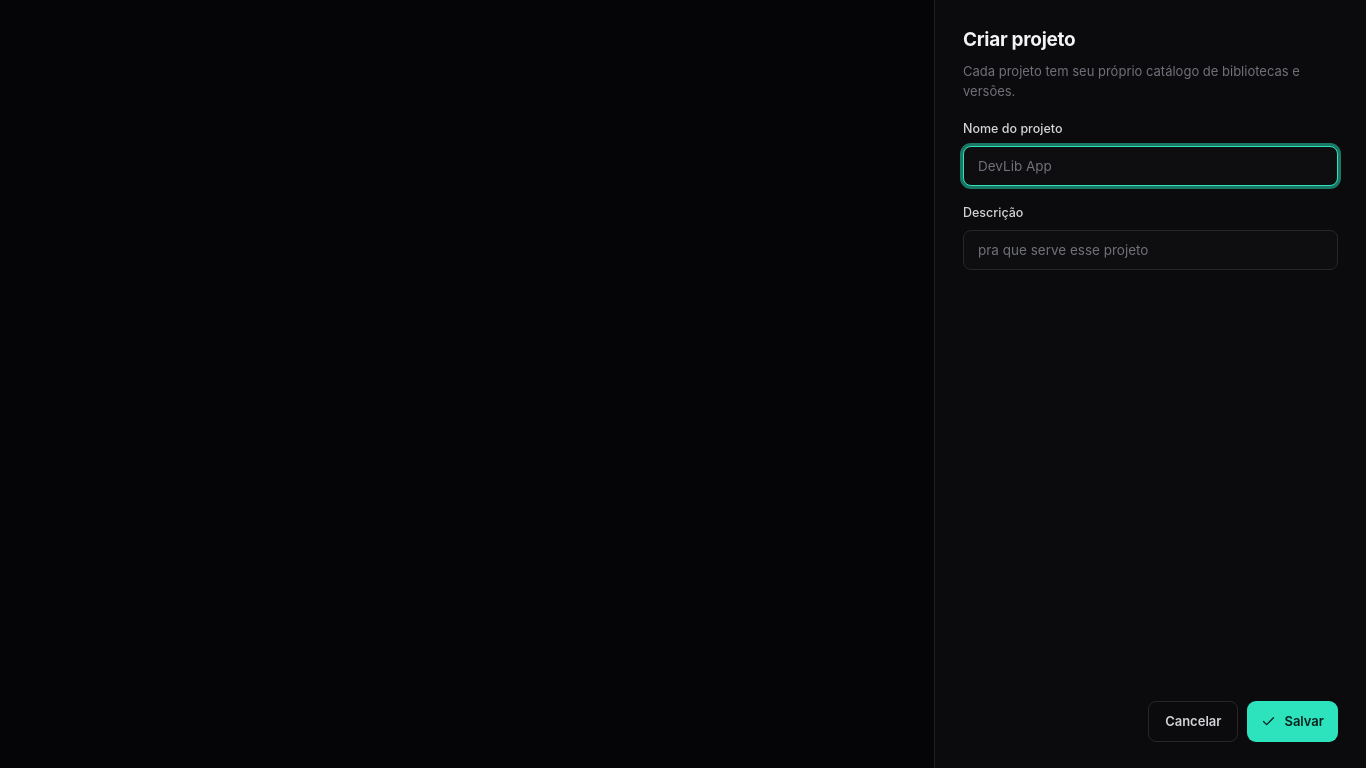
Test: CreateProjectDrawer › mostra a mensagem de erro da API quando a criação falha
The image size is (1366, 768).
Step 1. Type "DevLib" into the field labelled "Nome do projeto" → (1150, 166), box x1=963 y1=146 x2=1338 y2=186
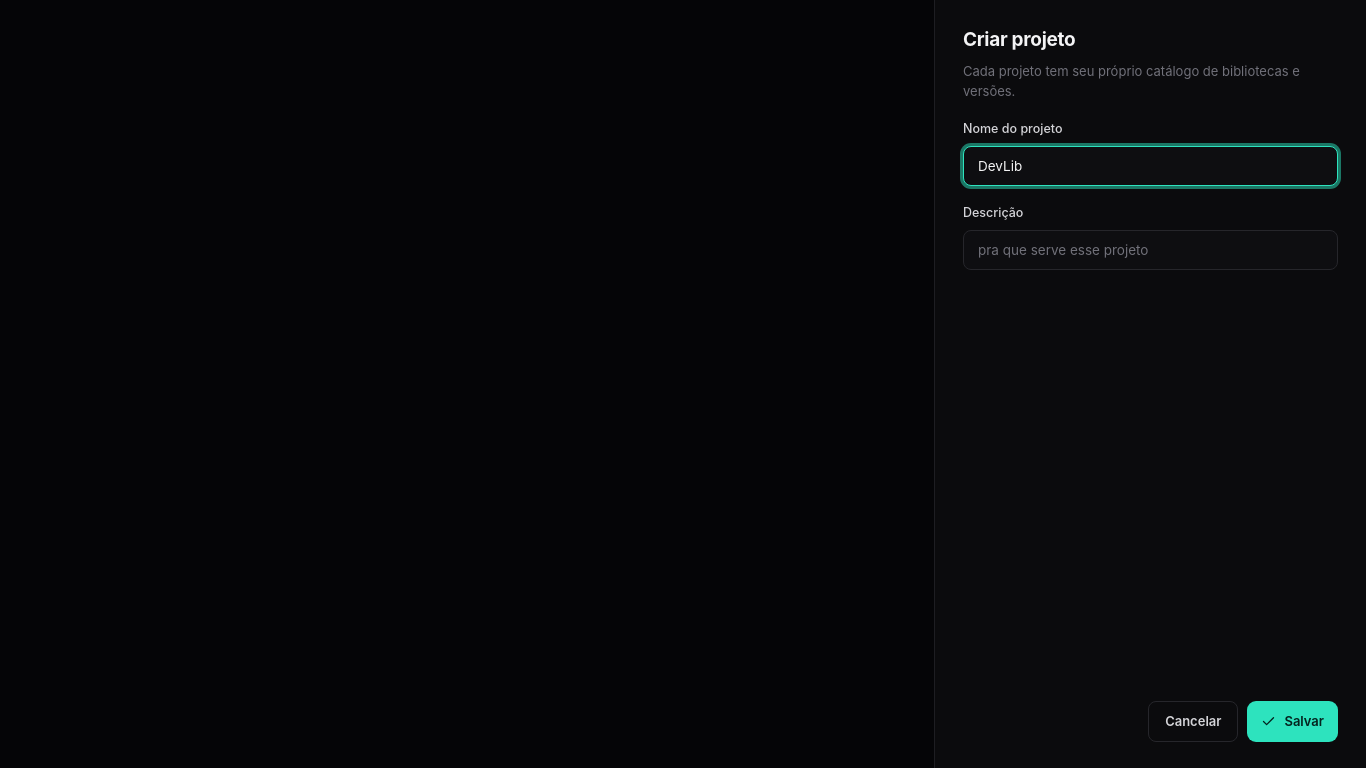
Step 2. Click the button "Salvar" → (1293, 721), box x1=1247 y1=700 x2=1338 y2=742
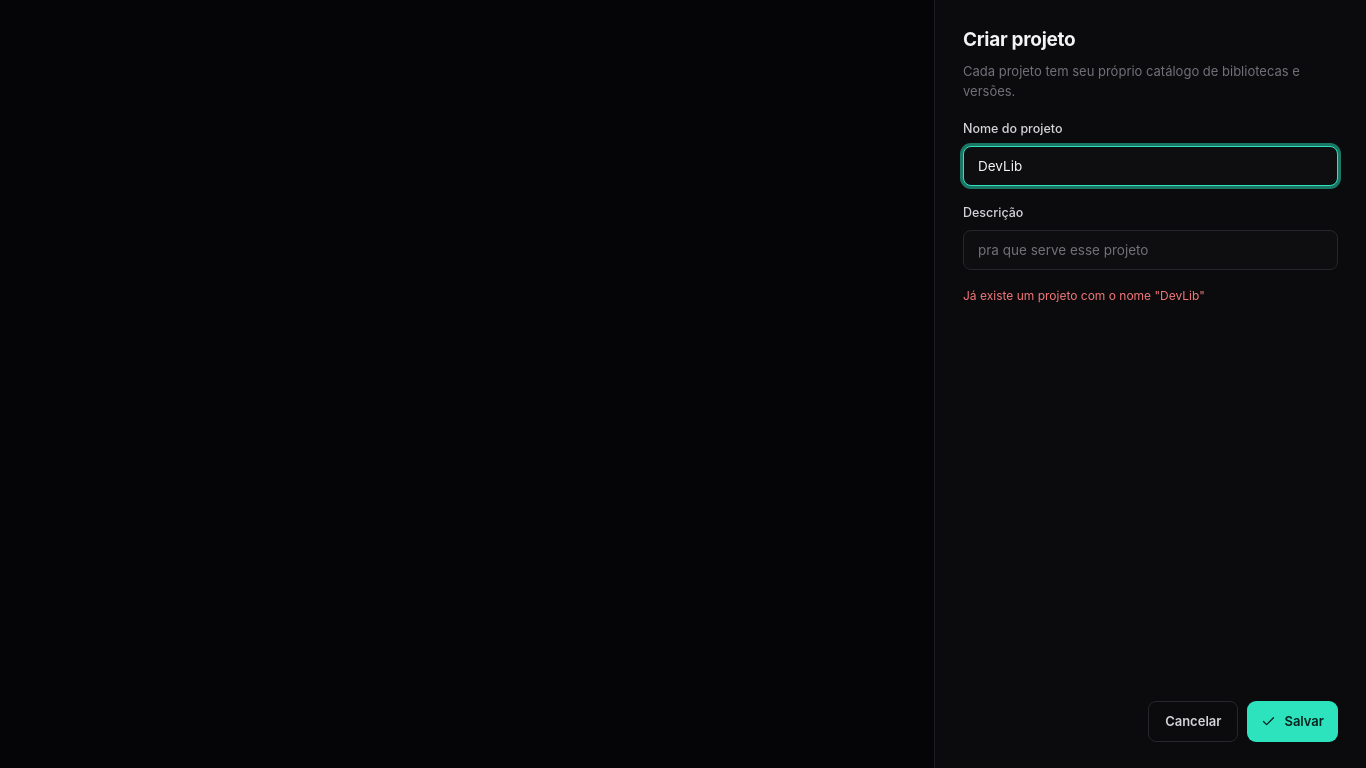
Expected: the text "Já existe um projeto com o nome \"DevLib\"" is shown, x1=963 y1=288 x2=1205 y2=303
